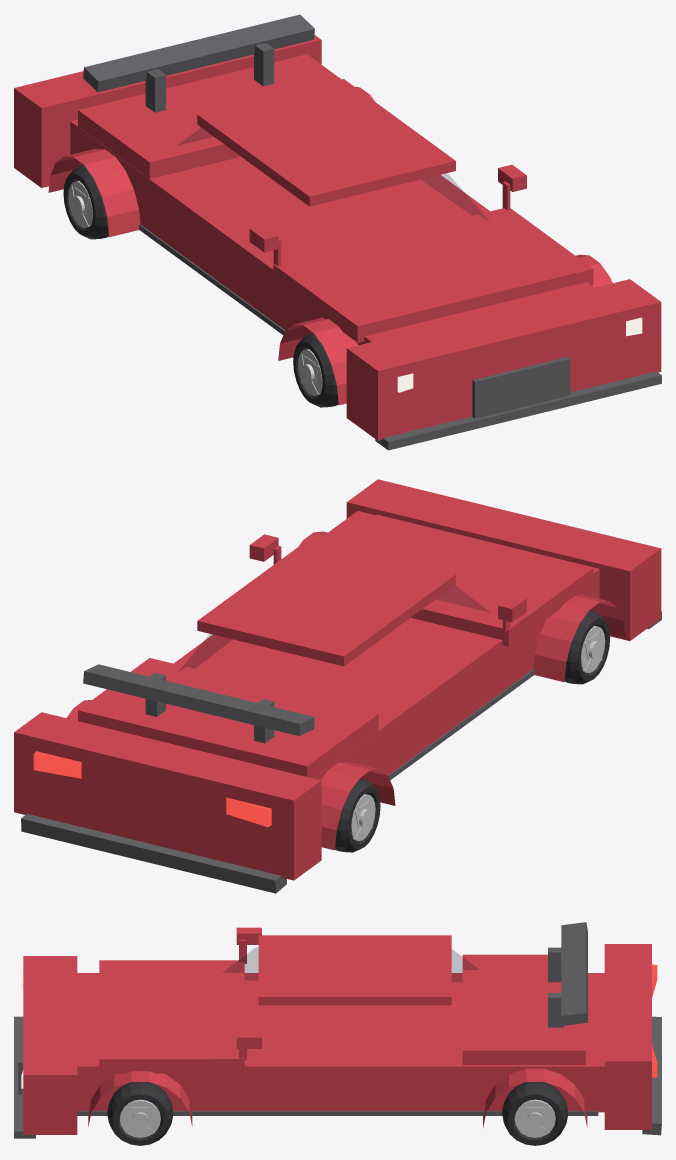
The model's file is sports_coupe.glb.
3 views of the same model, one above another, from view 1: azimuth 30°, elevation 25°; view 2: azimuth 150°, elevation 25°; view 3: azimuth 270°, elevation 25° (orthographic). The views are drawn at different scales.
Parts seen in each view (by area): view 1: Body, Trim, Wheel_FR, Wheel_RR, Glass; view 2: Body, Trim, Wheel_RR, Wheel_FR, Taillights, Glass; view 3: Body, Trim, Wheel_RL, Wheel_FL, Glass.
Boxes of the visible parts, box(x1,y1,x2,y2) form: Body: box(14, 35, 661, 440); Trim: box(83, 14, 661, 450); Wheel_FR: box(293, 333, 338, 407); Wheel_RR: box(63, 164, 108, 239); Glass: box(178, 128, 489, 221); Body: box(14, 479, 661, 880); Trim: box(21, 611, 661, 893); Wheel_RR: box(335, 778, 380, 852); Wheel_FR: box(564, 609, 610, 684); Taillights: box(33, 751, 271, 827); Glass: box(179, 586, 490, 671); Body: box(23, 927, 651, 1134); Trim: box(14, 922, 661, 1138); Wheel_RL: box(502, 1082, 568, 1145); Wheel_FL: box(107, 1082, 173, 1145); Glass: box(223, 947, 478, 981).
Size of the model in its own units: 1.82 by 0.865 by 4.1.
